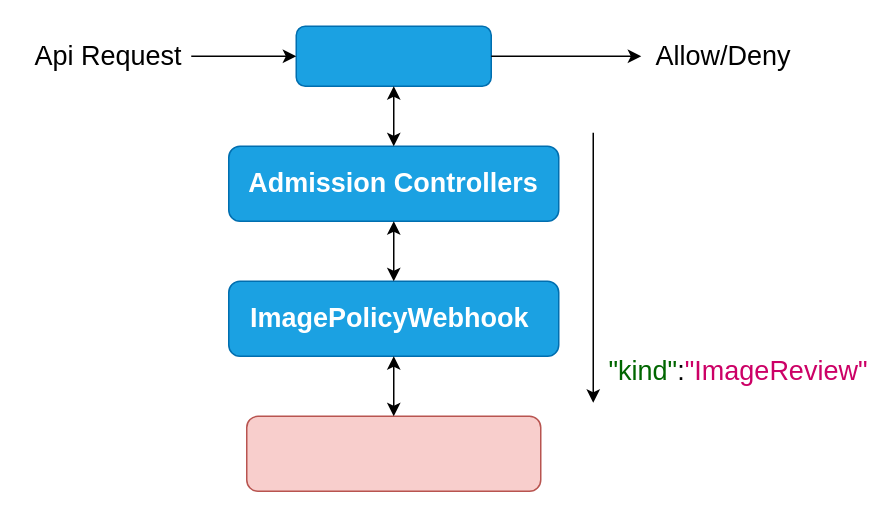
Image size: 894x518. Some labels were removed from this diagram. Here are the shapes that lost their labels. From the top down, the centre of each, then its label:
point 393,55: ApiServer
point 393,453: External Service
